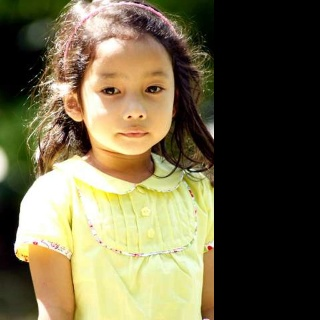without_mask: (78, 34, 174, 154)
